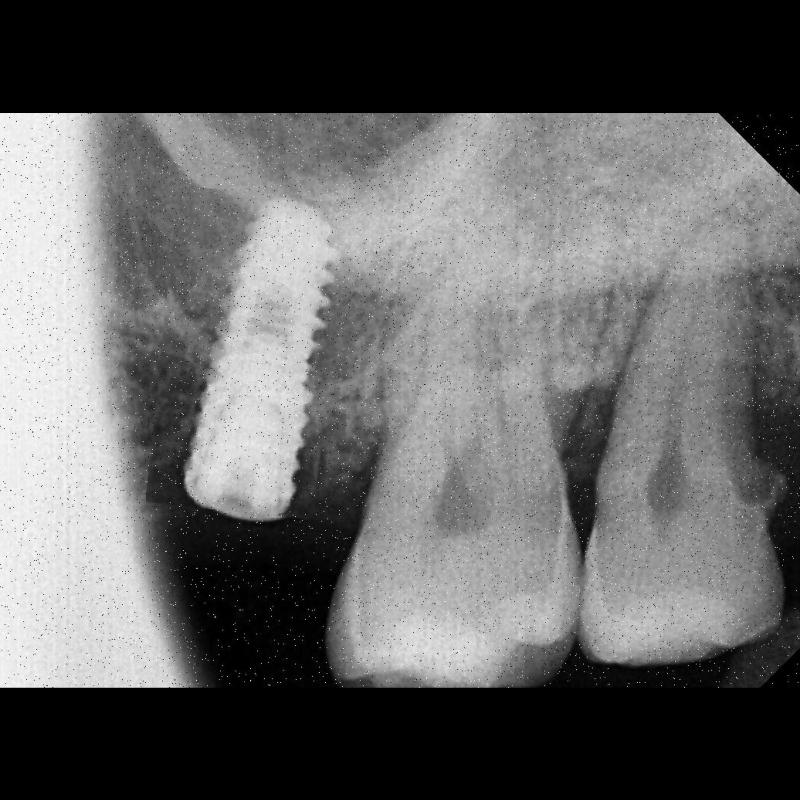osstem: (154, 189, 338, 515)
